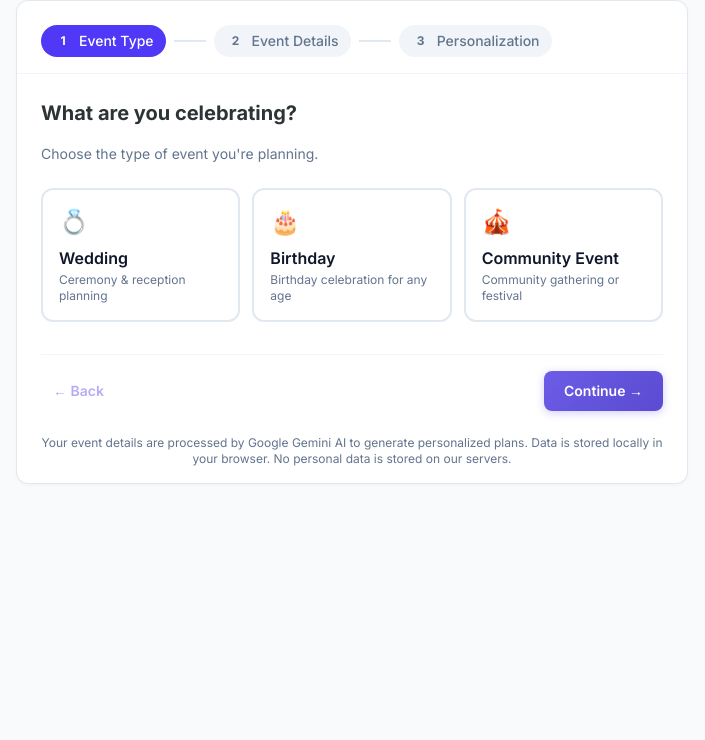
Test case: EventWizard › validates required details and rejects a past date
Click the button "💍 Wedding Ceremony & reception planning". click: [141, 255]
box: x1=41 y1=188 x2=240 y2=322
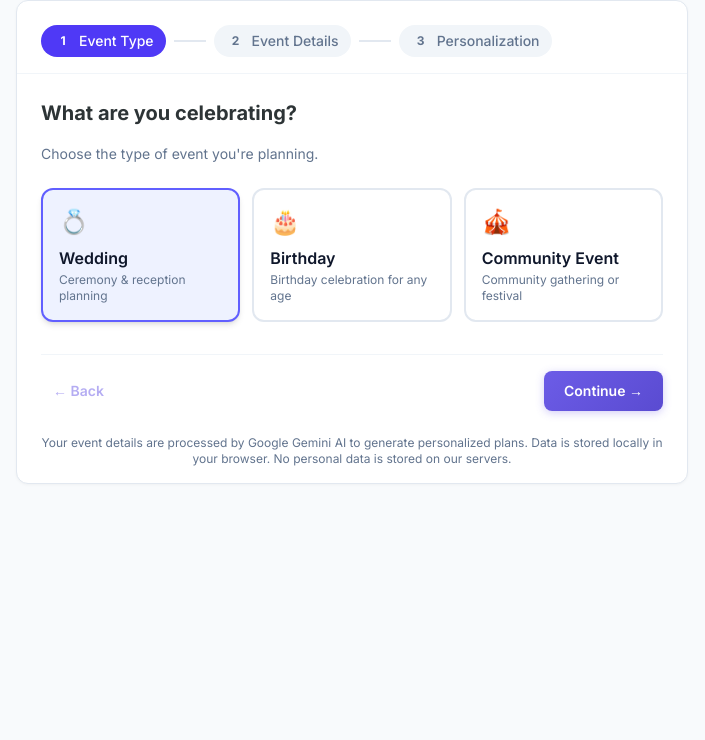
Click the button "Continue →". click: [604, 391]
box: x1=544 y1=371 x2=663 y2=411
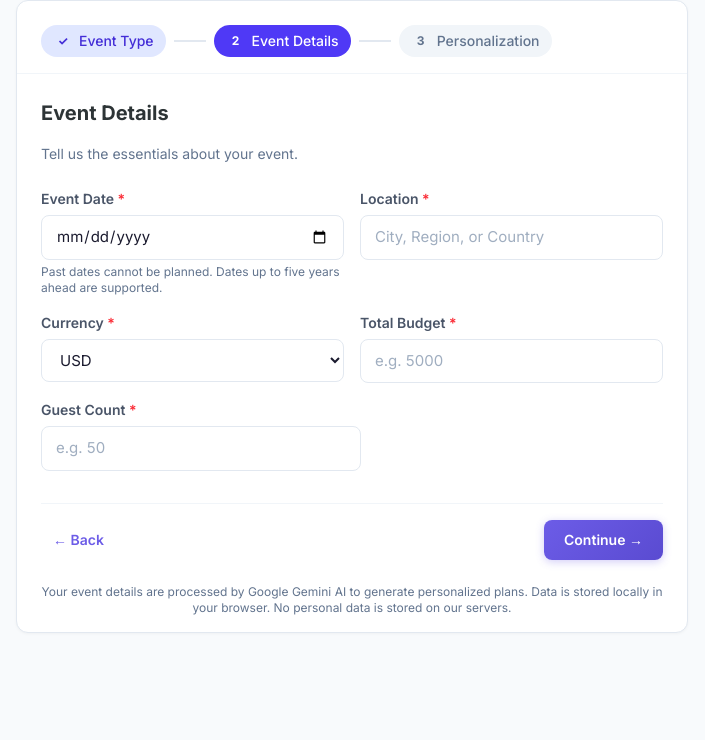
Click the button "Continue →". click: [604, 540]
box: x1=544 y1=520 x2=663 y2=560
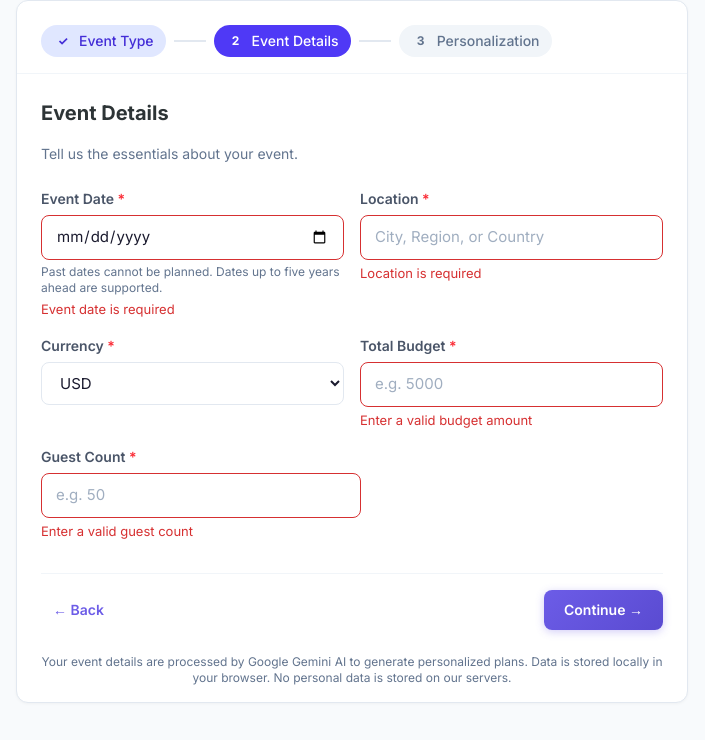
Now the text "Event date is required" is shown, box x1=41 y1=300 x2=175 y2=316
Now the text "Location is required" is shown, box x1=360 y1=264 x2=482 y2=280
Now the text "Enter a valid budget amount" is shown, box x1=360 y1=412 x2=532 y2=428
Type "2020-01-01" into the date field labelled "Event Date *". click: [192, 237]
box: x1=41 y1=215 x2=344 y2=260
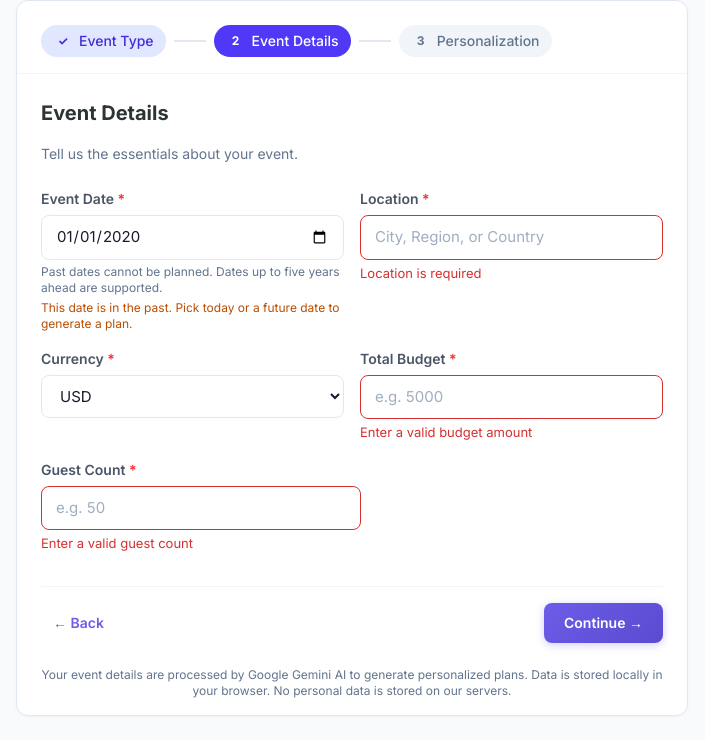
Click the button "Continue →". click: [604, 622]
box: x1=544 y1=602 x2=663 y2=642
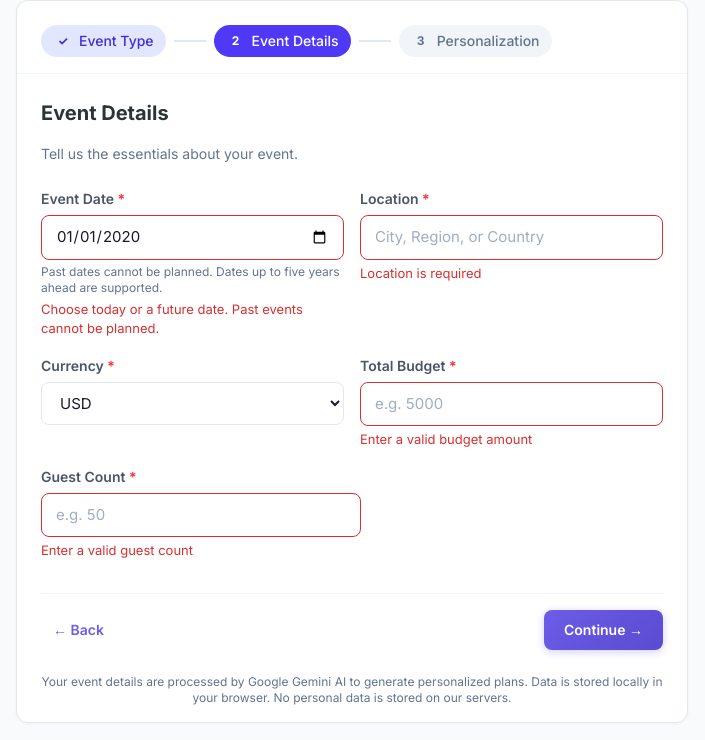
Now the text "Choose today or a future date. Past events cannot be planned." is shown, box x1=41 y1=300 x2=344 y2=338
